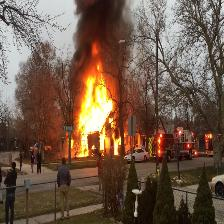fire: (80, 72, 117, 157)
smoke: (77, 0, 119, 69)
